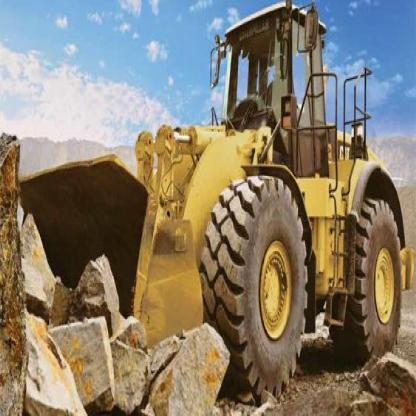bull_dozer/loader/grader: (14, 8, 406, 401)
